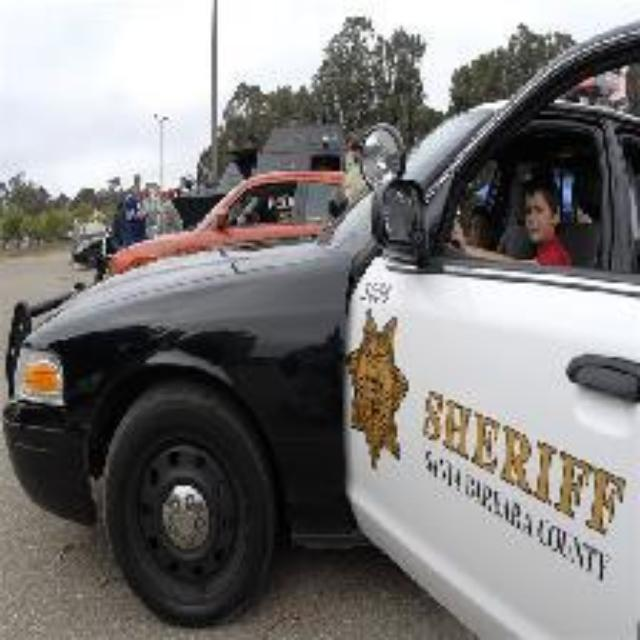emergency: (15, 92, 640, 628)
